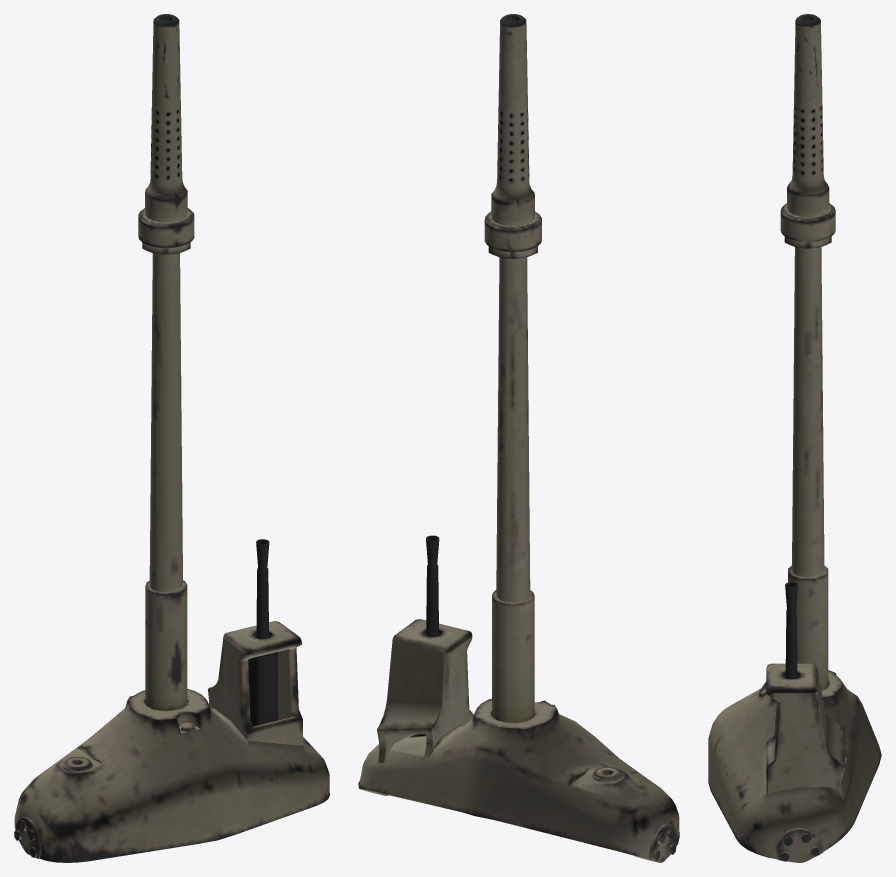
File: Gun_01.glb
The picture shows the model from 3 angles, left to right: view 1: azimuth 30°, elevation 25°; view 2: azimuth 150°, elevation 25°; view 3: azimuth 270°, elevation 25°; orthographic projection. The views are drawn at different scales.
Parts seen in each view (by area): view 1: set_0_group_0; view 2: set_0_group_0; view 3: set_0_group_0.
Part boxes in pixels (left/top/right/bottom): set_0_group_0: left=14, top=14, right=329, bottom=862; set_0_group_0: left=358, top=14, right=679, bottom=862; set_0_group_0: left=708, top=14, right=881, bottom=862.
Bounding box in the file's own units: 0.7805 × 2.04 × 0.4128.
Materials: 1 (1 with a texture image).
